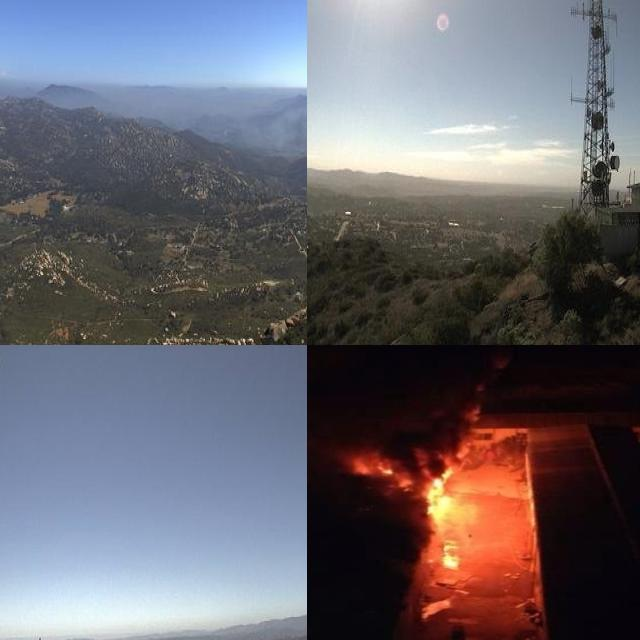fire: (416, 467, 466, 569)
smoke: (307, 345, 566, 465), (232, 104, 307, 164)
